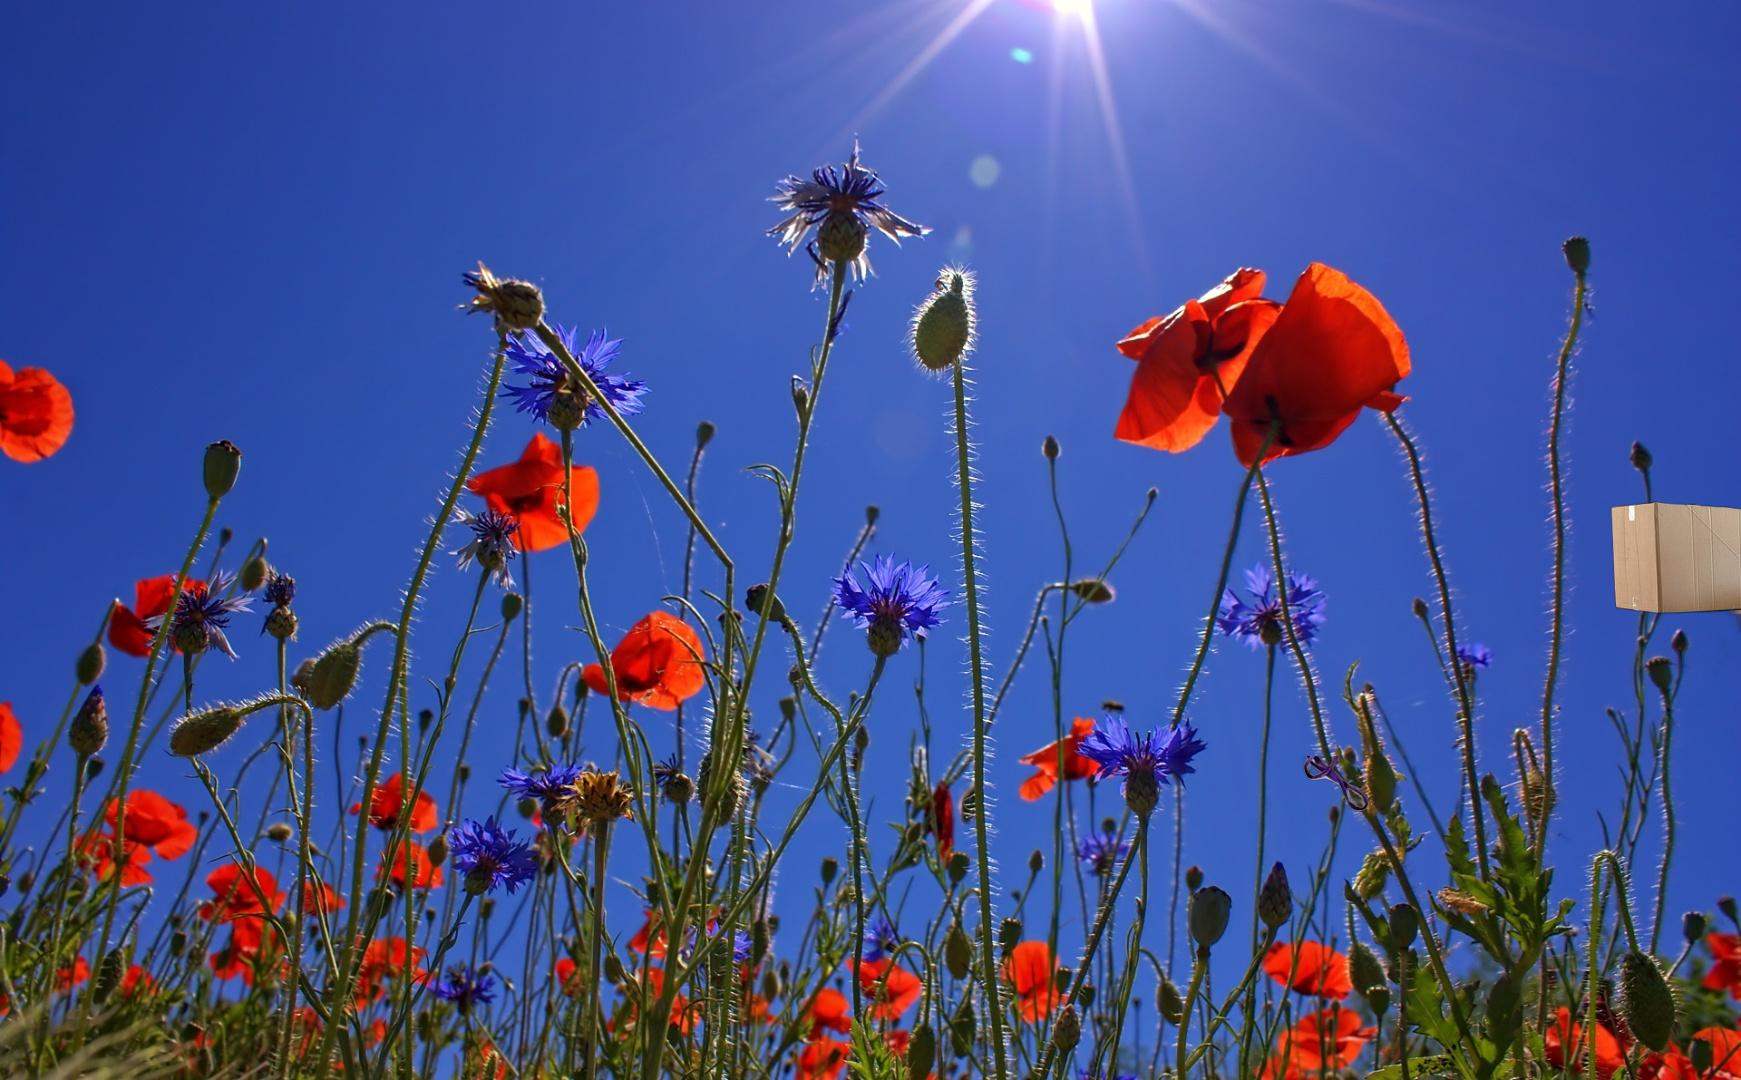shoes: (1174, 756, 1394, 913)
trashbox-cardboard: (1608, 488, 1741, 742)
